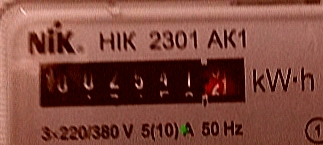0: (52, 68, 70, 95), (80, 65, 94, 92)
1: (180, 61, 193, 89)
2: (104, 65, 120, 90)
4: (156, 63, 169, 86)
5: (129, 63, 147, 91)
6: (207, 78, 222, 96)
screen: (25, 43, 259, 118)
